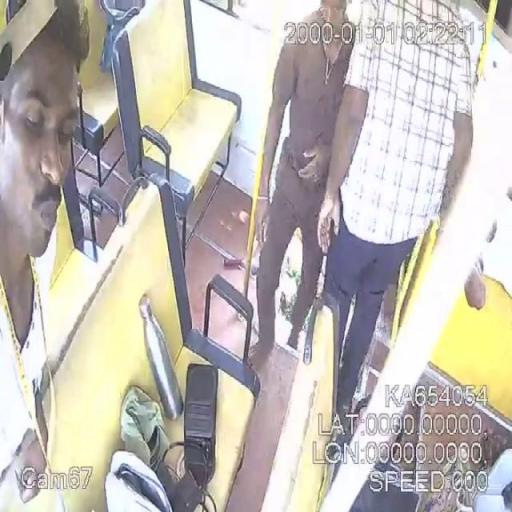persona: (315, 0, 483, 450), (0, 1, 92, 511), (248, 0, 358, 370)
